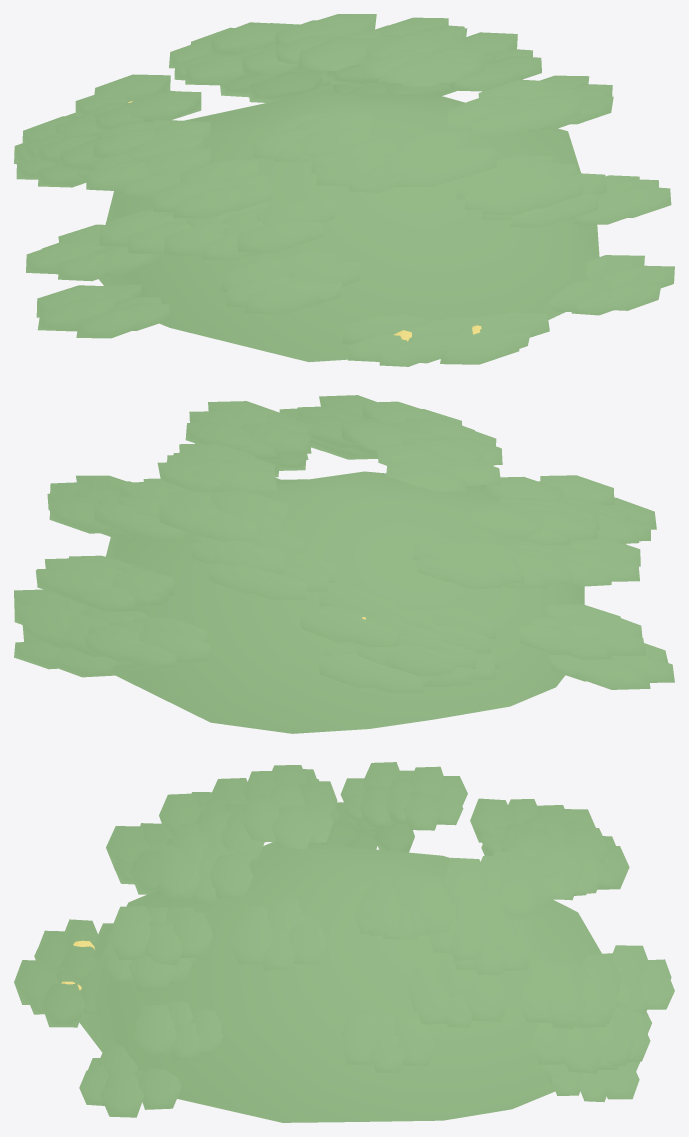
File: Blender_Naupaka_2.glb
3 views of the same model, one above another, from view 1: azimuth 30°, elevation 25°; view 2: azimuth 150°, elevation 25°; view 3: azimuth 270°, elevation 25° (orthographic). The views are drawn at different scales.
Parts seen in each view (by area): view 1: Blender_Naupaka_2; view 2: Blender_Naupaka_2; view 3: Blender_Naupaka_2.
Boxes of the visible parts, x1,y1,x2,y2 form: Blender_Naupaka_2: [14, 14, 674, 366]; Blender_Naupaka_2: [14, 395, 674, 733]; Blender_Naupaka_2: [14, 762, 674, 1122].
Size of the model in its own units: 2.51 by 0.7207 by 2.28.
